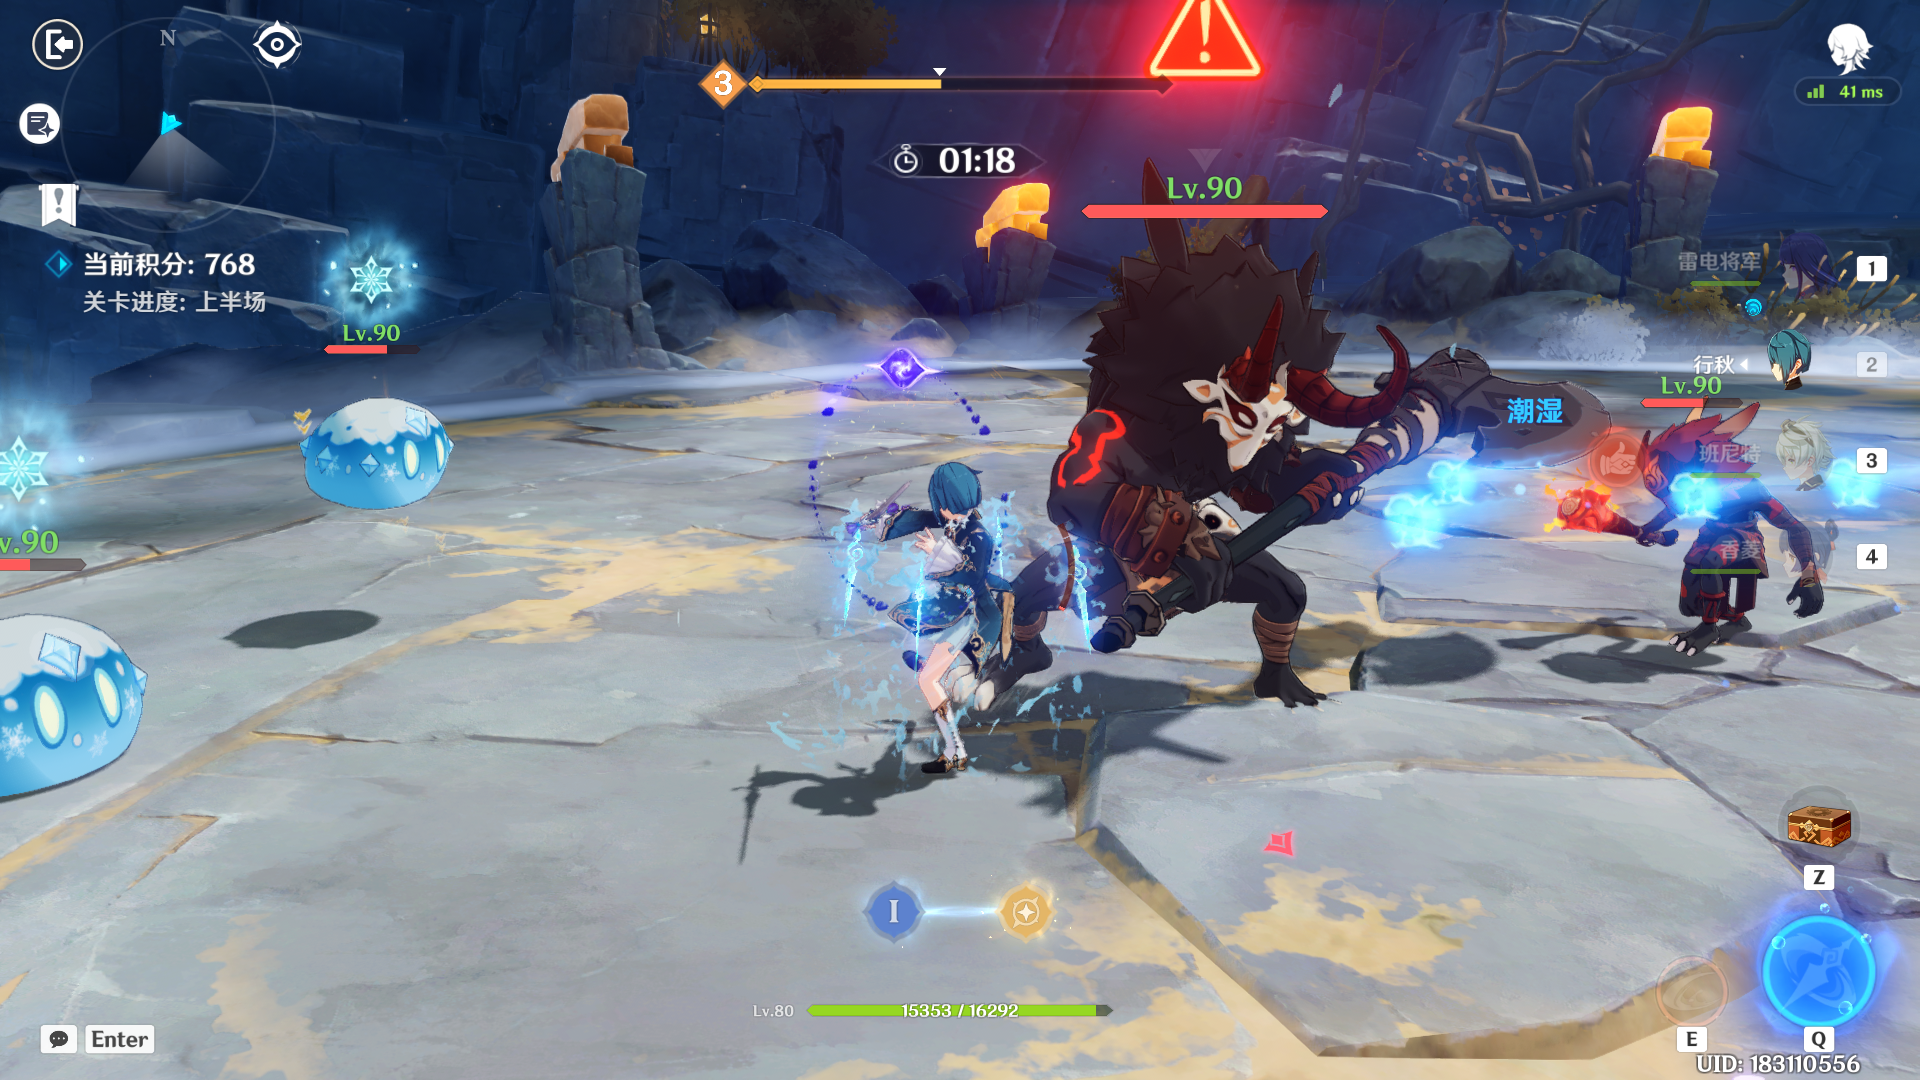bighili: (1019, 199, 1490, 806)
character: (833, 430, 1087, 825)
hili: (1563, 367, 1837, 716)
slime: (248, 355, 512, 549), (1, 611, 158, 822)
